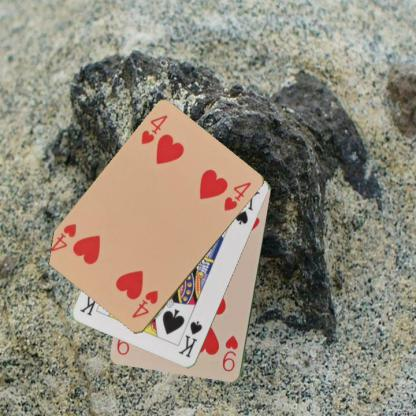4h: (138, 113, 169, 146), (129, 288, 160, 320)
9h: (219, 333, 240, 373)
Ks: (176, 318, 204, 360)
